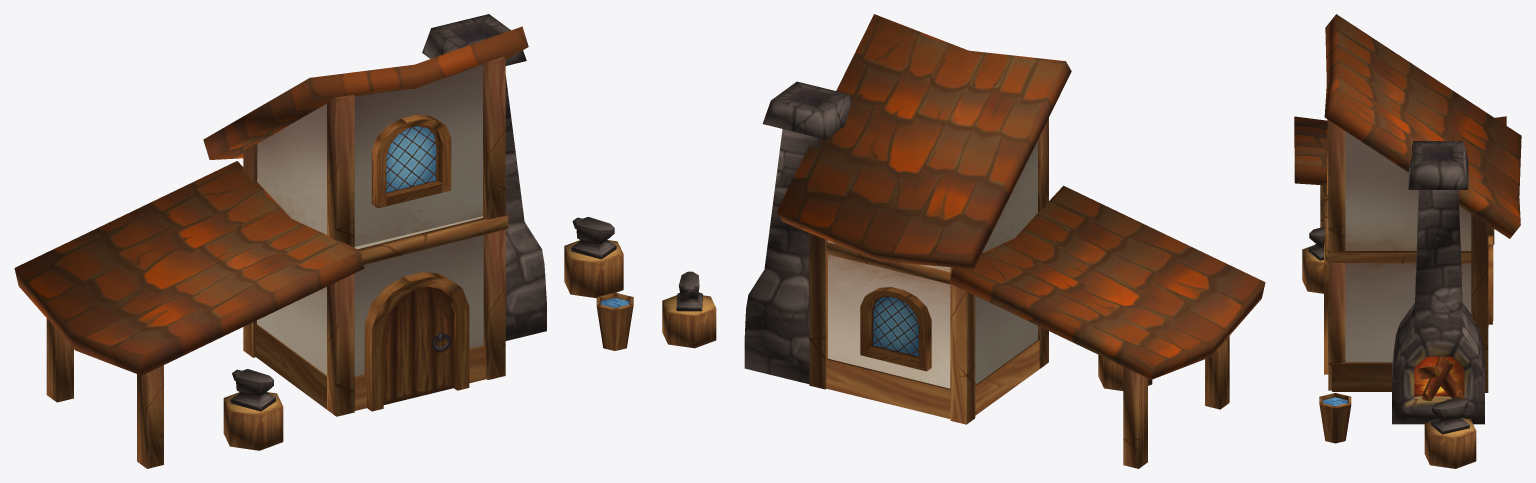
Rendered from building_4_2.FBX.
The picture shows the model from 3 angles, left to right: view 1: azimuth 30°, elevation 25°; view 2: azimuth 150°, elevation 25°; view 3: azimuth 270°, elevation 25°; orthographic projection. The views are drawn at different scales.
Parts seen in each view (by area): view 1: building_4_2; view 2: building_4_2; view 3: building_4_2.
Boxes of the visible parts, bbox=[...] form: building_4_2: bbox=[14, 14, 633, 468]; building_4_2: bbox=[662, 14, 1265, 468]; building_4_2: bbox=[1294, 14, 1521, 468].
Size of the model in its own units: 416 by 235 by 163.
